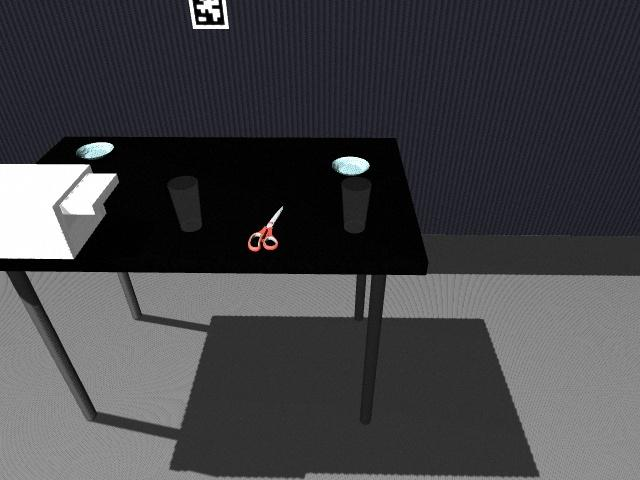cup: (167, 177, 201, 232), (341, 177, 372, 234)
plate: (330, 155, 372, 177), (75, 141, 116, 161)
scissors: (246, 204, 284, 252)
